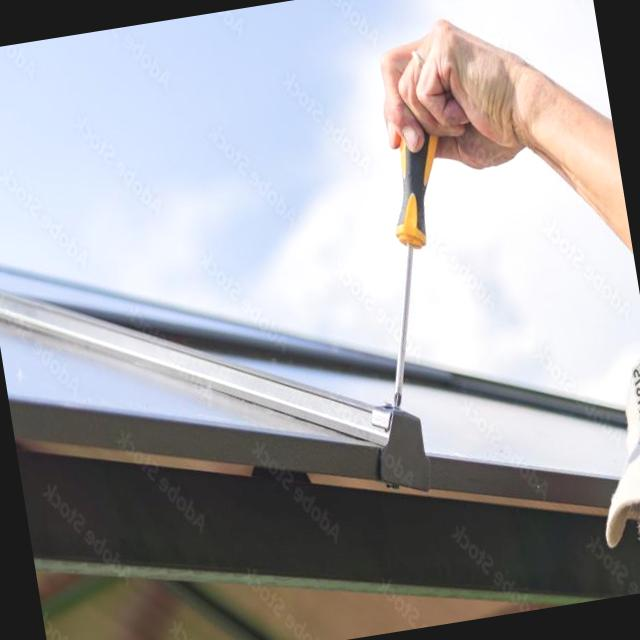screwdriver: (392, 132, 438, 409)
